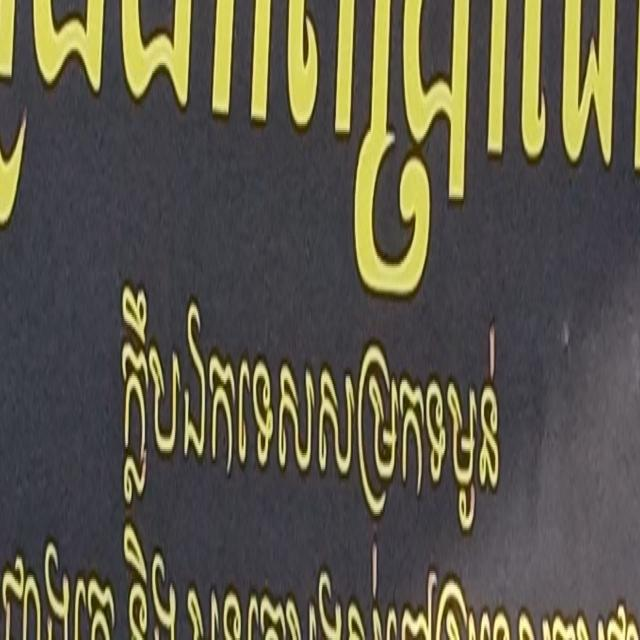Yolov11kh: (105, 240, 520, 569)
